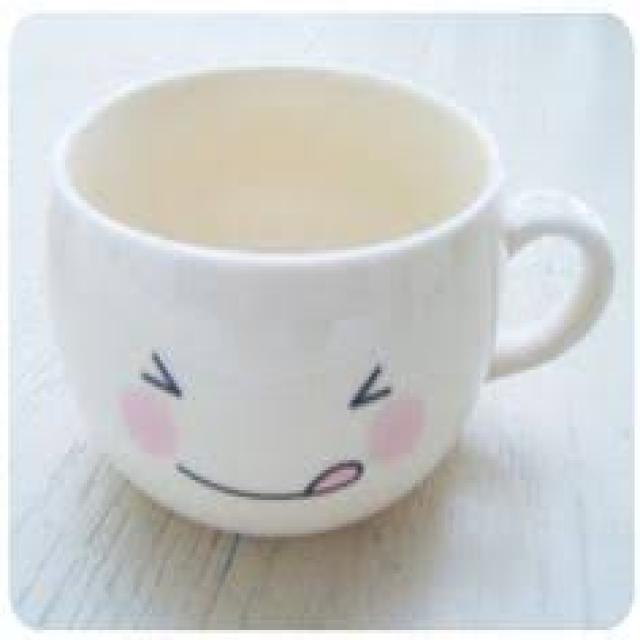taza: (31, 64, 624, 540)
